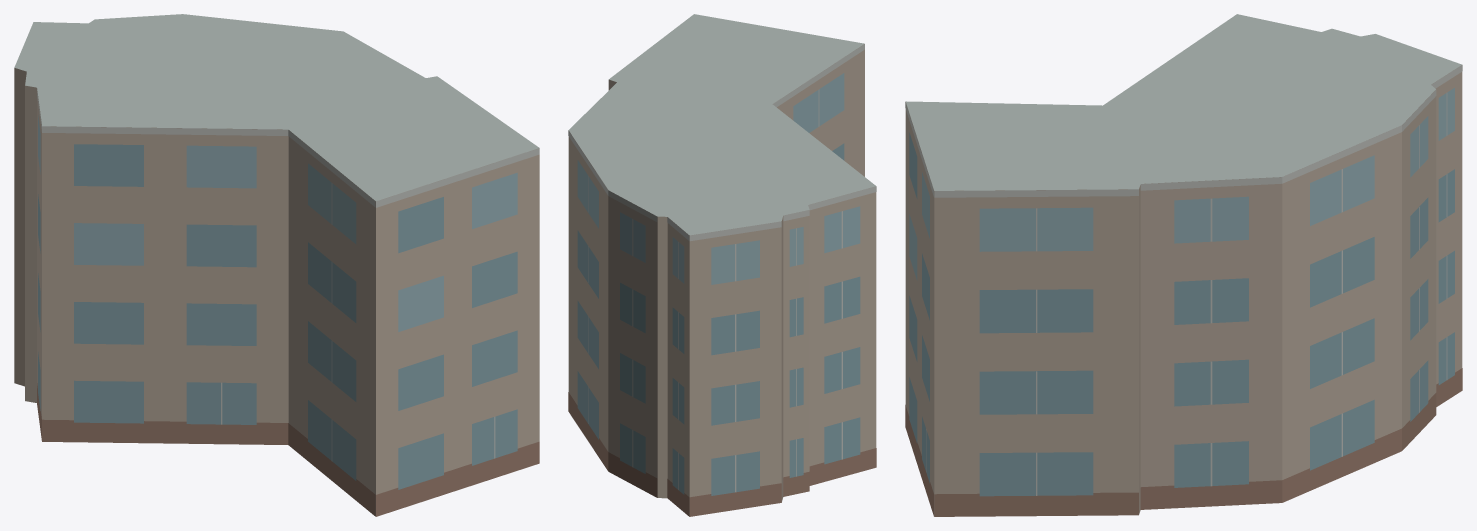
Rendered from survey-upis-32620960.glb.
3 views of the same model, side by side, from view 1: azimuth 30°, elevation 25°; view 2: azimuth 150°, elevation 25°; view 3: azimuth 270°, elevation 25° (orthographic). The views are drawn at different scales.
Parts seen in each view (by area): view 1: survey-upis-32620960.tmp; view 2: survey-upis-32620960.tmp; view 3: survey-upis-32620960.tmp.
Part boxes in pixels (x1,y1,x2,y2): survey-upis-32620960.tmp: [14, 14, 539, 516]; survey-upis-32620960.tmp: [568, 14, 876, 516]; survey-upis-32620960.tmp: [905, 14, 1462, 516].
Bounding box in the file's own units: 13.63 × 11.7 × 18.13.
